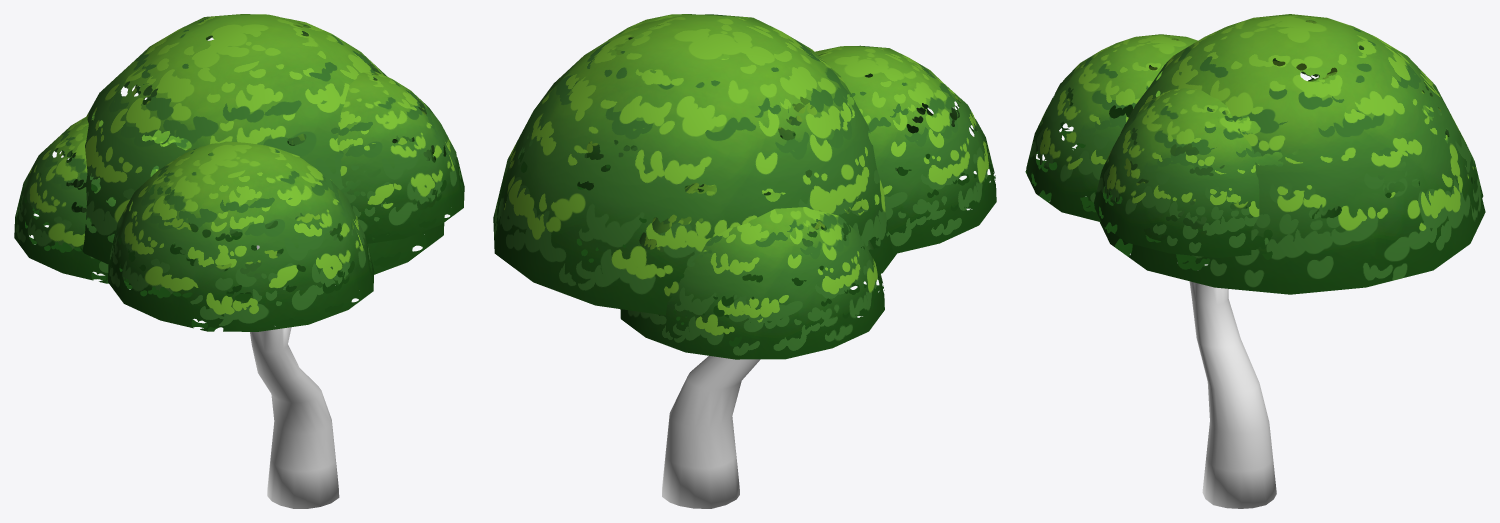
File: árvore 3D.fbx
3 views of the same model, side by side, from view 1: azimuth 30°, elevation 25°; view 2: azimuth 150°, elevation 25°; view 3: azimuth 270°, elevation 25° (orthographic). The views are drawn at different scales.
Parts seen in each view (by area): view 1: Cube.004, Cube, Cube.003, Cube.001, Cube.002; view 2: Cube.004, Cube.002, Cube, Cube.001, Cube.003; view 3: Cube.004, Cube.003, Cube, Cube.001, Cube.002.
Boxes of the visible parts, x1=… form: Cube.004: x1=66, y1=14, x2=444, y2=293; Cube: x1=108, y1=141, x2=374, y2=331; Cube.003: x1=287, y1=71, x2=464, y2=243; Cube.001: x1=250, y1=245, x2=339, y2=508; Cube.002: x1=14, y1=112, x2=233, y2=283; Cube.004: x1=493, y1=14, x2=898, y2=316; Cube.002: x1=620, y1=183, x2=884, y2=359; Cube: x1=763, y1=45, x2=996, y2=254; Cube.001: x1=662, y1=356, x2=760, y2=508; Cube.003: x1=577, y1=14, x2=795, y2=192; Cube.004: x1=1095, y1=14, x2=1485, y2=294; Cube.003: x1=1093, y1=88, x2=1341, y2=257; Cube: x1=1025, y1=34, x2=1247, y2=221; Cube.001: x1=1189, y1=264, x2=1276, y2=508; Cube.002: x1=1310, y1=72, x2=1483, y2=212.
Size of the model in its own units: 711 by 845 by 780.
1 material, 1 textured.
